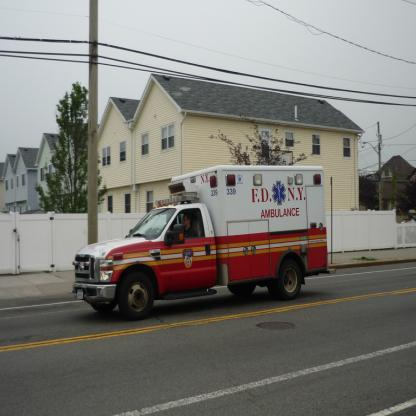Ambulance - v1 Ambulance last generate: (66, 165, 328, 320)
